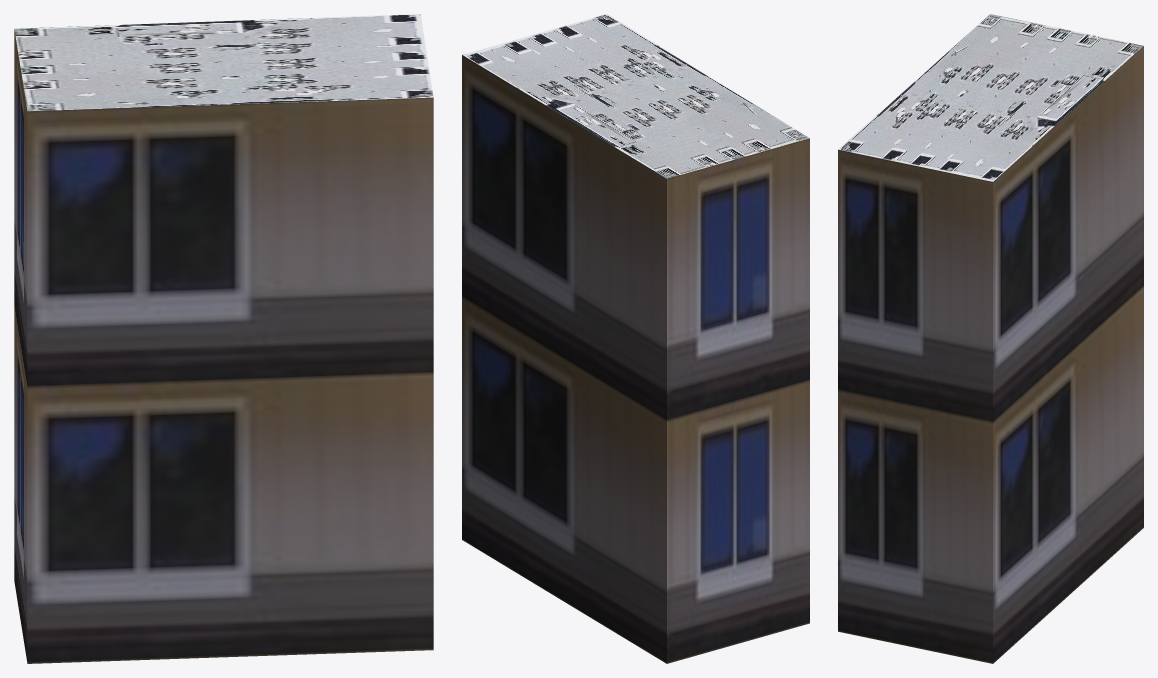
The model's file is ResTex__2252.fbx.
3 renders of one model, left to right at view 1: azimuth 30°, elevation 25°; view 2: azimuth 150°, elevation 25°; view 3: azimuth 270°, elevation 25°, orthographic. The views are drawn at different scales.
Visible parts, largest first — view 1: CityEngineMaterial_5_m, CityEngineMaterial_4_m; view 2: CityEngineMaterial_5_m, CityEngineMaterial_4_m; view 3: CityEngineMaterial_5_m, CityEngineMaterial_4_m.
Part boxes in pixels (x1,y1,x2,y2): CityEngineMaterial_5_m: [14, 30, 433, 663]; CityEngineMaterial_4_m: [14, 14, 433, 111]; CityEngineMaterial_5_m: [462, 55, 809, 663]; CityEngineMaterial_4_m: [462, 14, 809, 178]; CityEngineMaterial_5_m: [838, 46, 1143, 663]; CityEngineMaterial_4_m: [838, 14, 1143, 181].
Size of the model in its own units: 4.48 by 6 by 3.45.
Materials: 2 (2 with a texture image).
